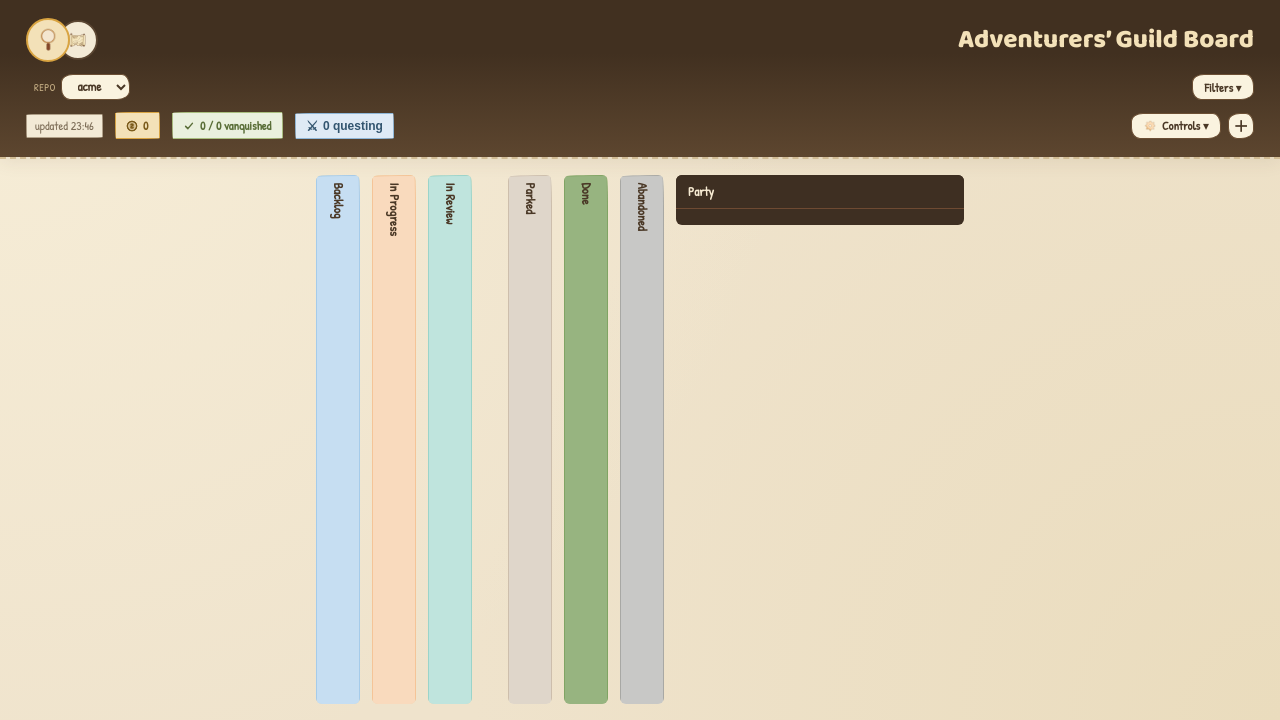
Test: <App/> — WF-086 Board|Atlas view toggle › switches to the Atlas and hides FilterBar entirely when the Atlas tab is clicked
The width and height of the screenshot is (1280, 720).
Expected: the dropdown labelled "repo" is shown, [61, 74, 130, 100]
Click the button named "Atlas". click: (78, 40)
box: [58, 20, 98, 60]
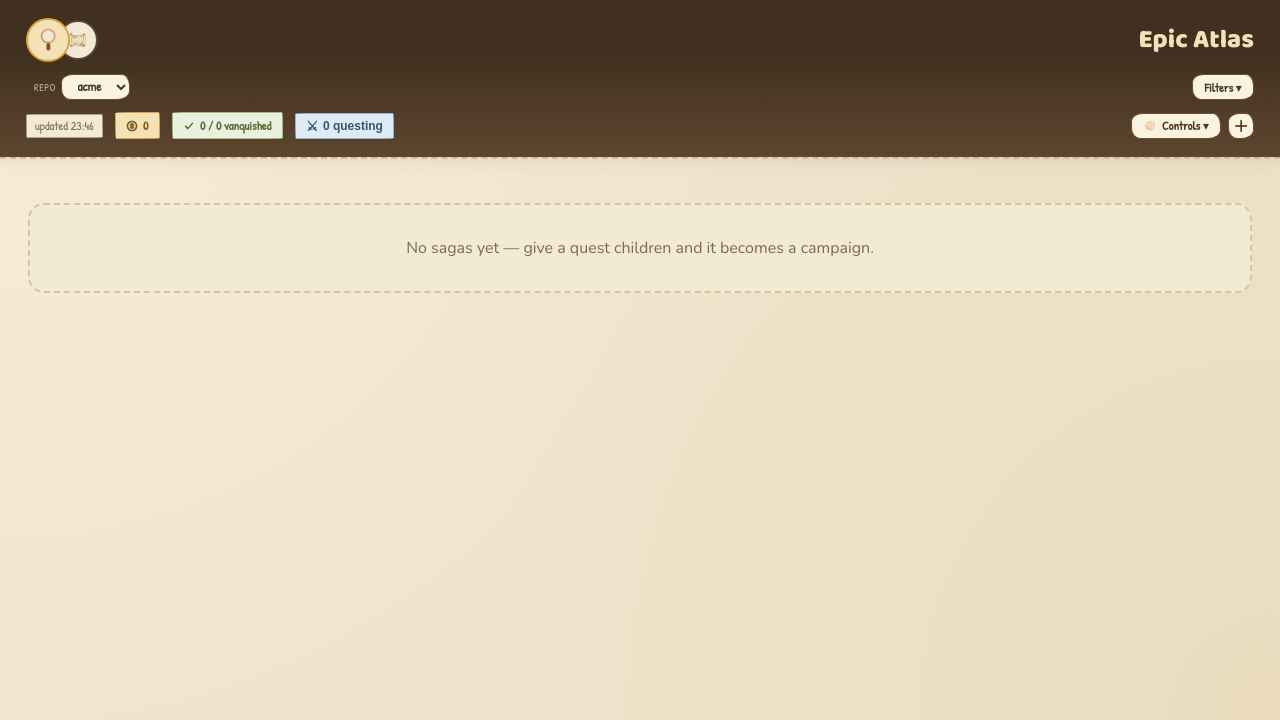
Expected: the element with class "atlas-chart" is shown, [28, 203, 1252, 293]
Expected: the text "Backlog In Progress In Review Parked Done Abandoned Party" is gone
